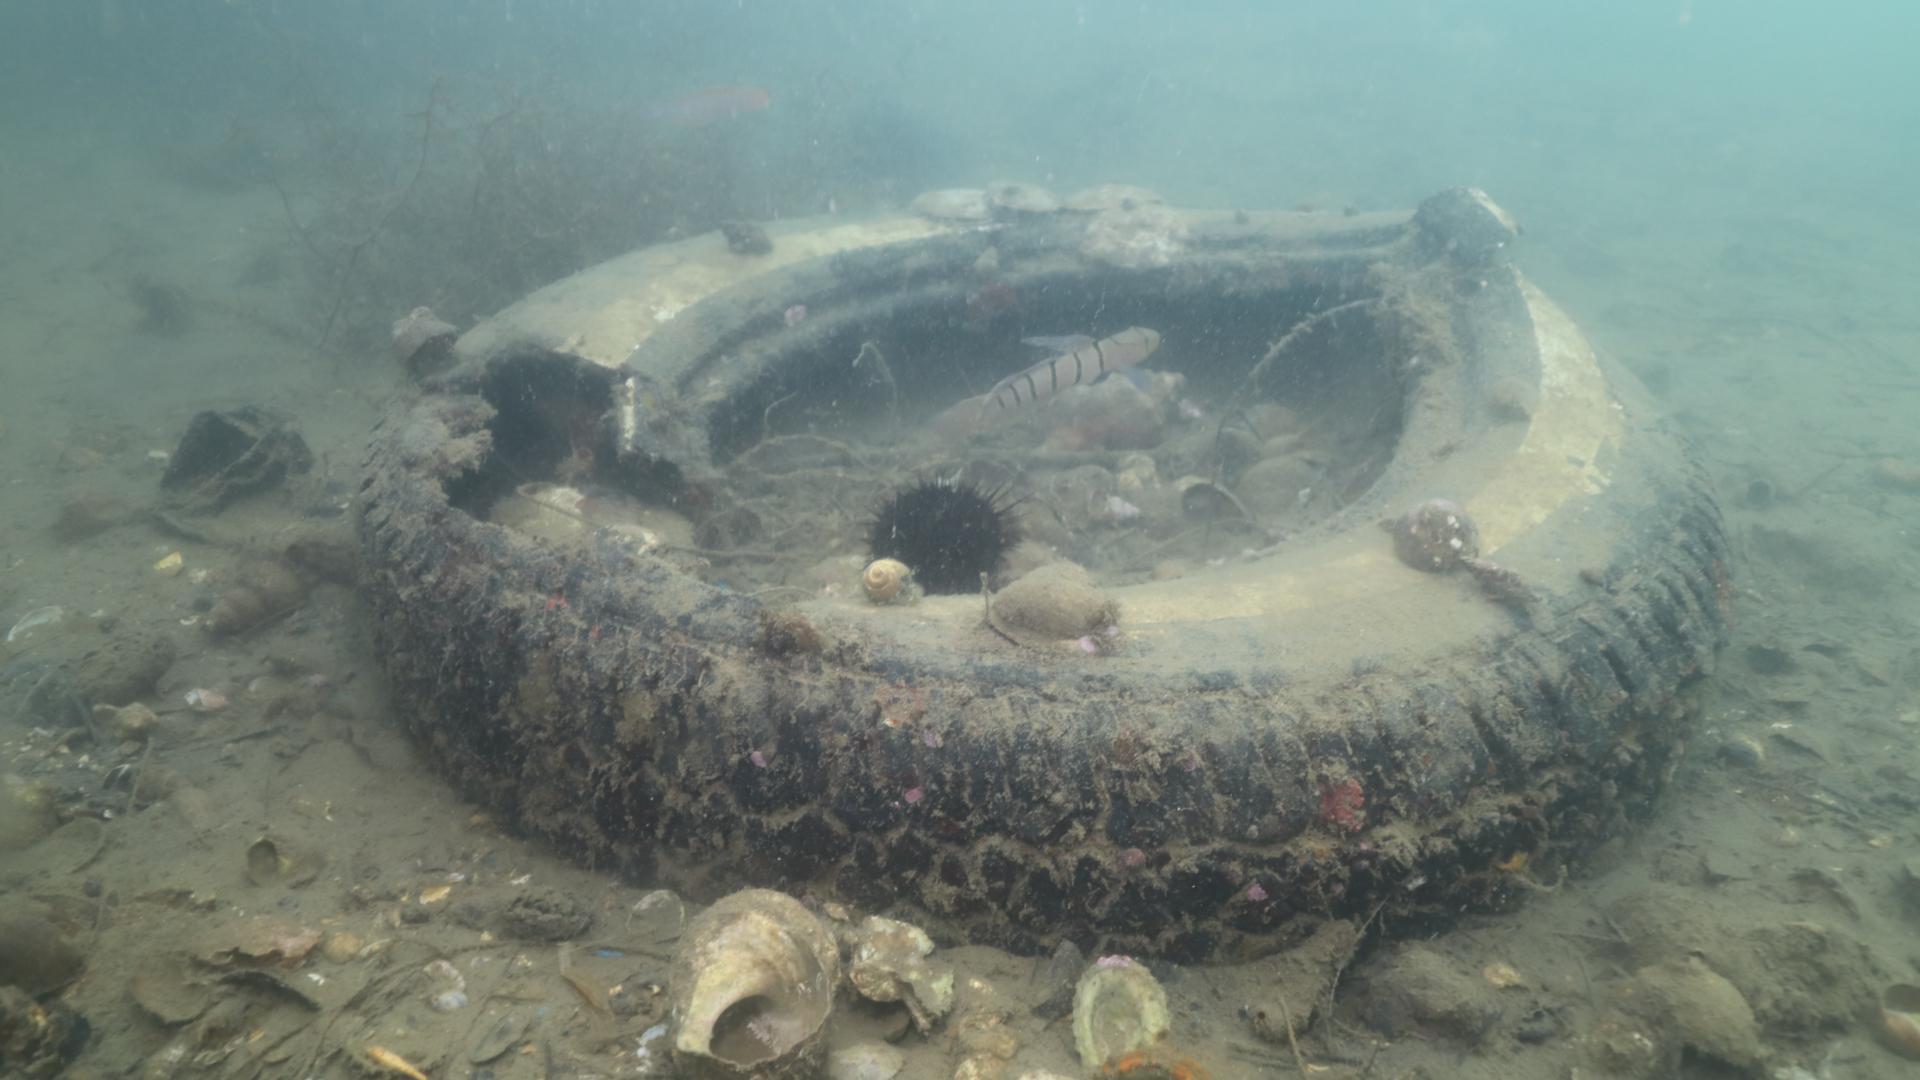tire: (360, 182, 1735, 968)
